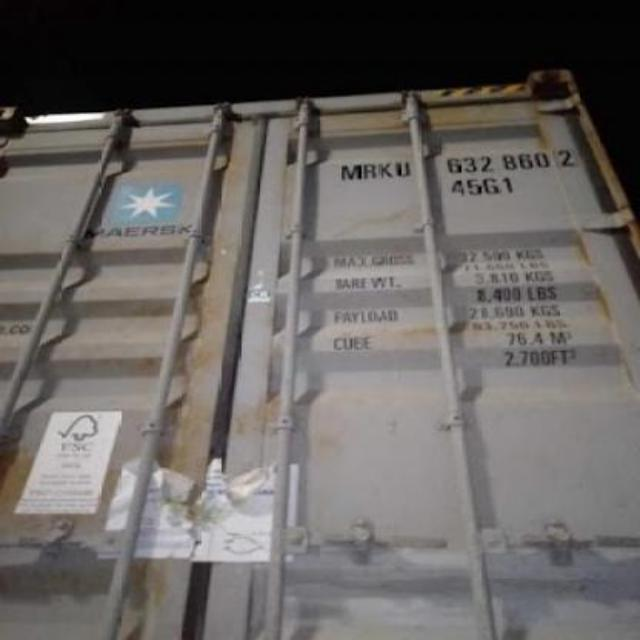0: (534, 145, 550, 175)
2: (554, 145, 576, 169), (478, 148, 496, 176)
3: (460, 148, 478, 176)
6: (444, 149, 462, 175), (518, 145, 532, 175)
8: (502, 150, 518, 172)
K: (376, 156, 394, 188)
M: (341, 158, 362, 185)
R: (362, 157, 376, 187)
U: (396, 152, 414, 184)
